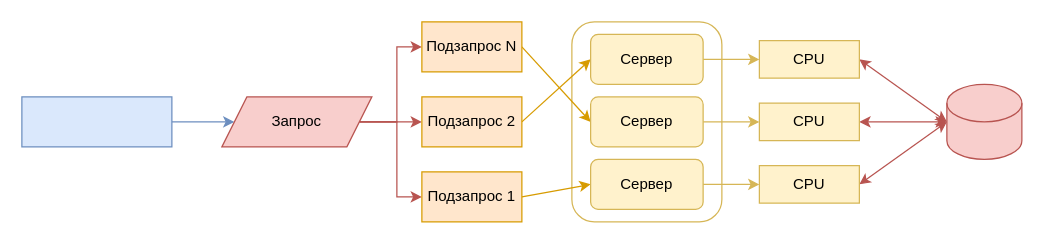
The diagram is 1044 pixels wide and 244 high, and some of its shapes have lost their labels. The centre of each missing label's shape, as x and y in pixels:
БД: the point at 984,121
Клиент: the point at 96,121
